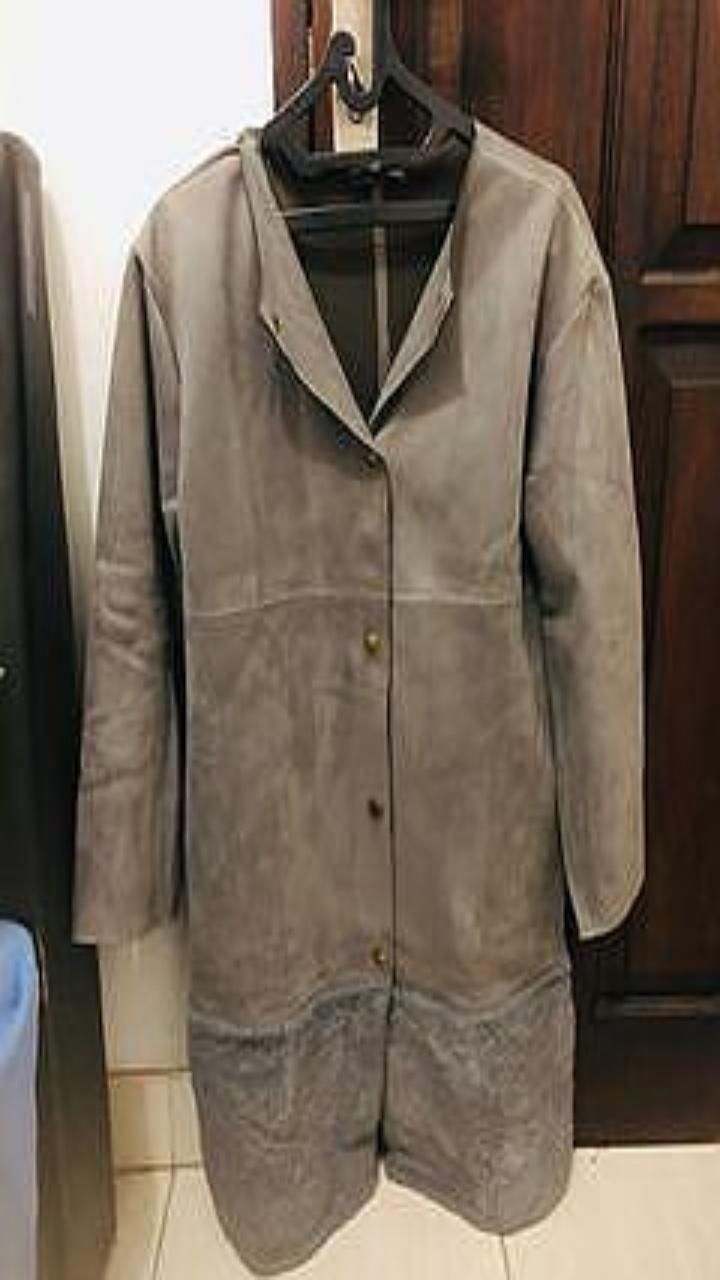Coat: (75, 120, 643, 1273)
